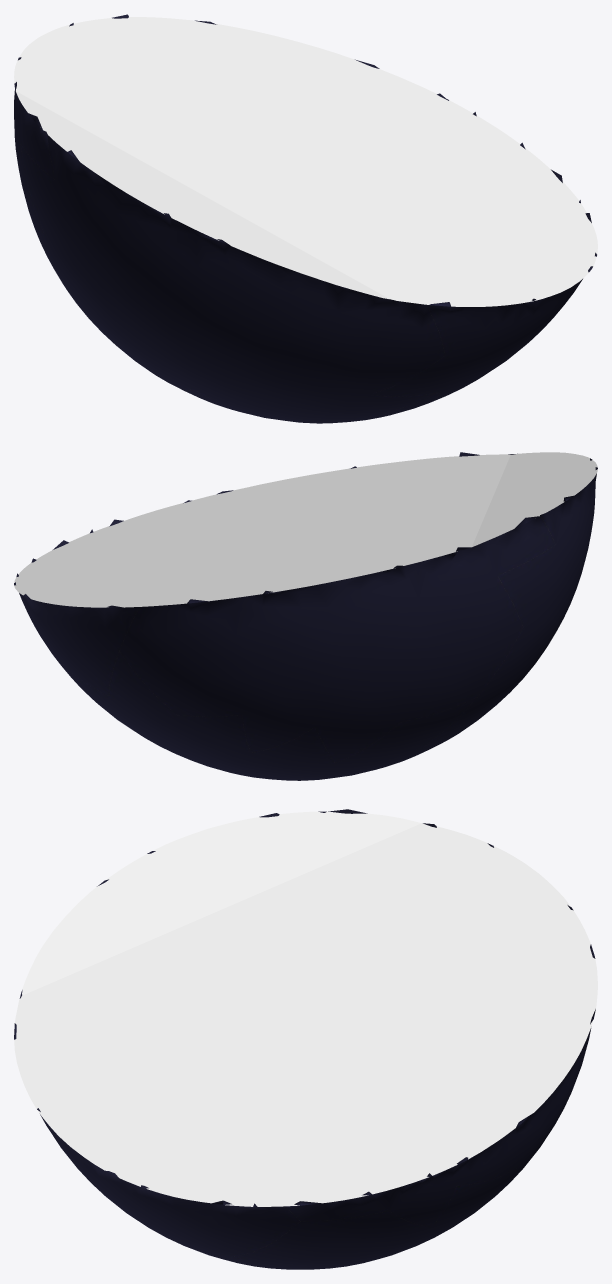
The model's file is bomb2.fbx.
3 renders of one model, top to bottom at view 1: azimuth 30°, elevation 25°; view 2: azimuth 150°, elevation 25°; view 3: azimuth 270°, elevation 25°, orthographic. The views are drawn at different scales.
Visible parts, largest first — view 1: corps.003; view 2: corps.003; view 3: corps.003.
Boxes of the visible parts, left/top/right/bottom form: corps.003: left=14, top=14, right=597, bottom=423; corps.003: left=14, top=452, right=597, bottom=780; corps.003: left=14, top=809, right=597, bottom=1269.
Bounding box in the file's own units: 74.56 × 45.6 × 77.19.
